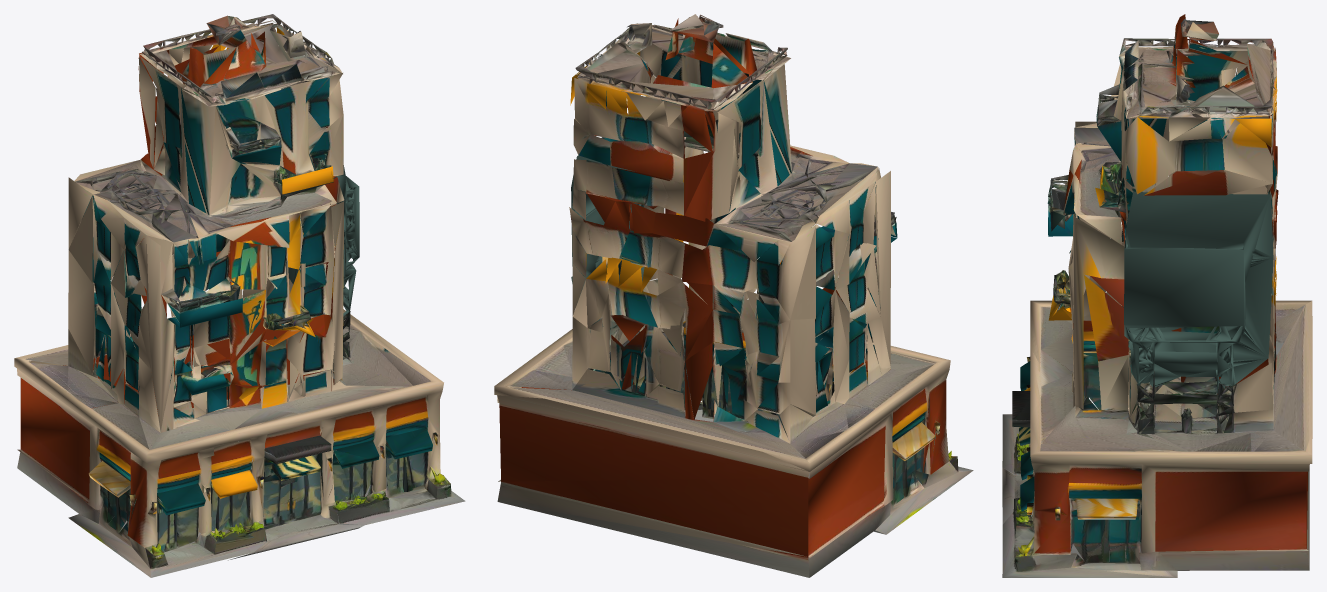
File: JHB_Building02_LOD1.fbx
3 renders of one model, left to right at view 1: azimuth 30°, elevation 25°; view 2: azimuth 150°, elevation 25°; view 3: azimuth 270°, elevation 25°, orthographic. The views are drawn at different scales.
Visible parts, largest first — view 1: JHB_Building02_Shell_LOD1, JHB_Building02_Windows_LOD1, JHB_Building02_Awnings_LOD1, JHB_Building02_GroundFloor_LOD1, JHB_Building02_Entrance_LOD1, JHB_Building02_SolarPanels_LOD1, JHB_Building02_Roof_LOD1, JHB_Building02_Billboard_LOD1, JHB_Building02_Balconies_LOD1, JHB_Building02_Mural_LOD1; view 2: JHB_Building02_Windows_LOD1, JHB_Building02_GroundFloor_LOD1, JHB_Building02_Shell_LOD1, JHB_Building02_Awnings_LOD1, JHB_Building02_Roof_LOD1, JHB_Building02_SolarPanels_LOD1, JHB_Building02_Billboard_LOD1, JHB_Building02_Entrance_LOD1; view 3: JHB_Building02_Awnings_LOD1, JHB_Building02_Billboard_LOD1, JHB_Building02_GroundFloor_LOD1, JHB_Building02_Windows_LOD1, JHB_Building02_Shell_LOD1, JHB_Building02_SolarPanels_LOD1, JHB_Building02_Roof_LOD1, JHB_Building02_Entrance_LOD1, JHB_Building02_Mural_LOD1.
Part boxes in pixels (x1,y1,x2,y2): JHB_Building02_Shell_LOD1: (68, 23, 349, 432); JHB_Building02_Windows_LOD1: (68, 23, 350, 430); JHB_Building02_Awnings_LOD1: (14, 309, 444, 552); JHB_Building02_GroundFloor_LOD1: (15, 301, 465, 577); JHB_Building02_Entrance_LOD1: (228, 400, 373, 560); JHB_Building02_SolarPanels_LOD1: (176, 31, 342, 106); JHB_Building02_Roof_LOD1: (139, 14, 316, 84); JHB_Building02_Billboard_LOD1: (286, 152, 359, 316); JHB_Building02_Balconies_LOD1: (179, 292, 242, 327); JHB_Building02_Mural_LOD1: (222, 284, 315, 336); JHB_Building02_Windows_LOD1: (569, 43, 896, 419); JHB_Building02_GroundFloor_LOD1: (497, 303, 973, 577); JHB_Building02_Shell_LOD1: (570, 39, 896, 442); JHB_Building02_Awnings_LOD1: (494, 287, 951, 558); JHB_Building02_Roof_LOD1: (575, 14, 754, 111); JHB_Building02_SolarPanels_LOD1: (616, 18, 790, 81); JHB_Building02_Billboard_LOD1: (571, 137, 644, 324); JHB_Building02_Entrance_LOD1: (727, 314, 834, 436); JHB_Building02_Awnings_LOD1: (1016, 300, 1312, 562); JHB_Building02_Billboard_LOD1: (1124, 191, 1273, 395); JHB_Building02_GroundFloor_LOD1: (1002, 301, 1312, 577); JHB_Building02_Windows_LOD1: (1048, 51, 1278, 420); JHB_Building02_Shell_LOD1: (1047, 46, 1277, 417); JHB_Building02_SolarPanels_LOD1: (1119, 14, 1201, 118); JHB_Building02_Roof_LOD1: (1178, 19, 1277, 120); JHB_Building02_Entrance_LOD1: (1002, 348, 1072, 524); JHB_Building02_Mural_LOD1: (1048, 204, 1071, 320).
Size of the model in its own units: 18.17 by 25.03 by 14.55.
Materials: 6 (5 with a texture image).
